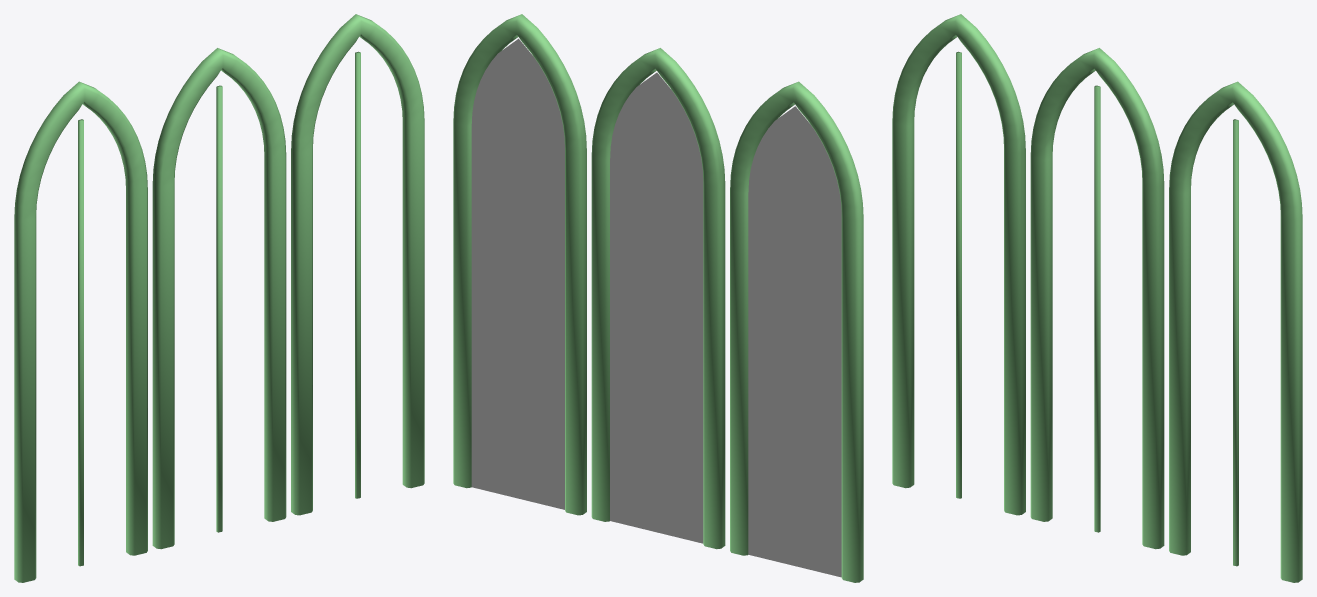
Rendered from lancetas.glb.
3 views of the same model, side by side, from view 1: azimuth 30°, elevation 25°; view 2: azimuth 150°, elevation 25°; view 3: azimuth 330°, elevation 25° (orthographic).
Visible parts, largest first — view 1: pedra; view 2: pedra, vidro_0, vidro_1, vidro_2; view 3: pedra.
Boxes of the visible parts, x1,y1,x2,y2 form: pedra: (14, 14, 424, 582); pedra: (453, 14, 863, 582); vidro_0: (748, 106, 841, 577); vidro_1: (610, 72, 703, 543); vidro_2: (471, 38, 564, 509); pedra: (892, 14, 1302, 582).
Bounding box in the file's own units: 8.22 × 9.32 × 0.2595.
